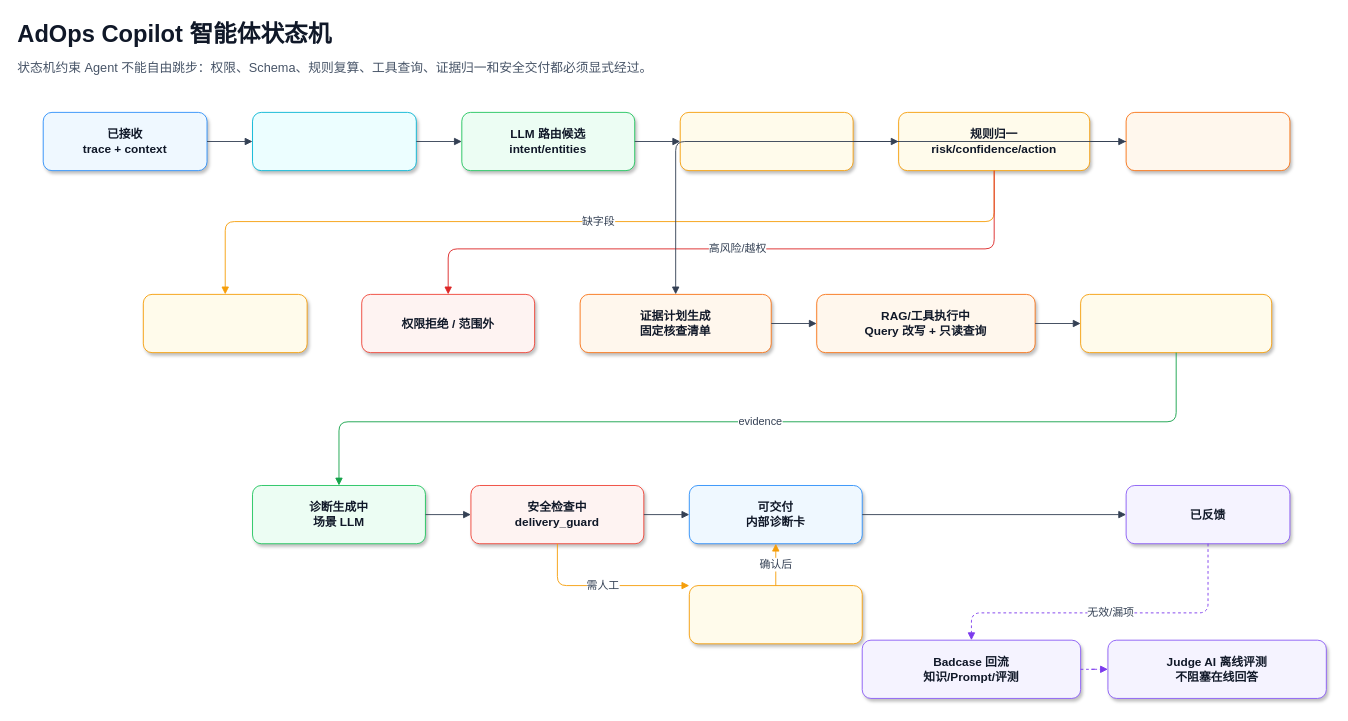
Image size: 1348x721. Some labels were removed from this diagram. Here are the shapes that lost their labels. From the top down, the centre of each, then its label:
At (x=335, y=142): "前置权限检查 pre_guard".
At (x=767, y=142): "Schema Guard JSON/enum/tool".
At (x=1208, y=142): "Workflow 分发 固定场景".
At (x=226, y=324): "待用户补充".
At (x=1176, y=324): "证据汇总中 Evidence Builder".
At (x=776, y=615): "人工审核".
